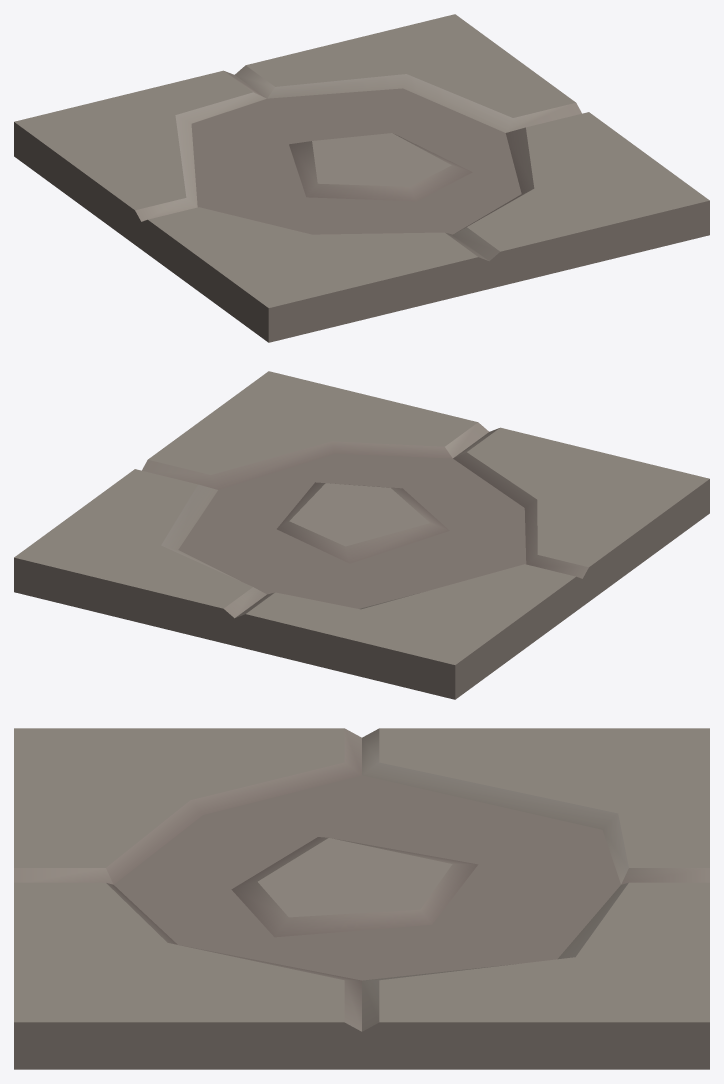
Rendered from floor_tile_small_broken_A.glb.
3 views of the same model, one above another, from view 1: azimuth 30°, elevation 25°; view 2: azimuth 150°, elevation 25°; view 3: azimuth 270°, elevation 25° (orthographic). The views are drawn at different scales.
Visible parts, largest first — view 1: floor_tile_small_broken_A; view 2: floor_tile_small_broken_A; view 3: floor_tile_small_broken_A.
Boxes of the visible parts, <box> form: floor_tile_small_broken_A: <box>14,14,709,342</box>; floor_tile_small_broken_A: <box>14,371,709,699</box>; floor_tile_small_broken_A: <box>14,728,709,1069</box>.
Bounding box in the file's own units: 2 × 0.15 × 2.
1 material, 1 textured.
